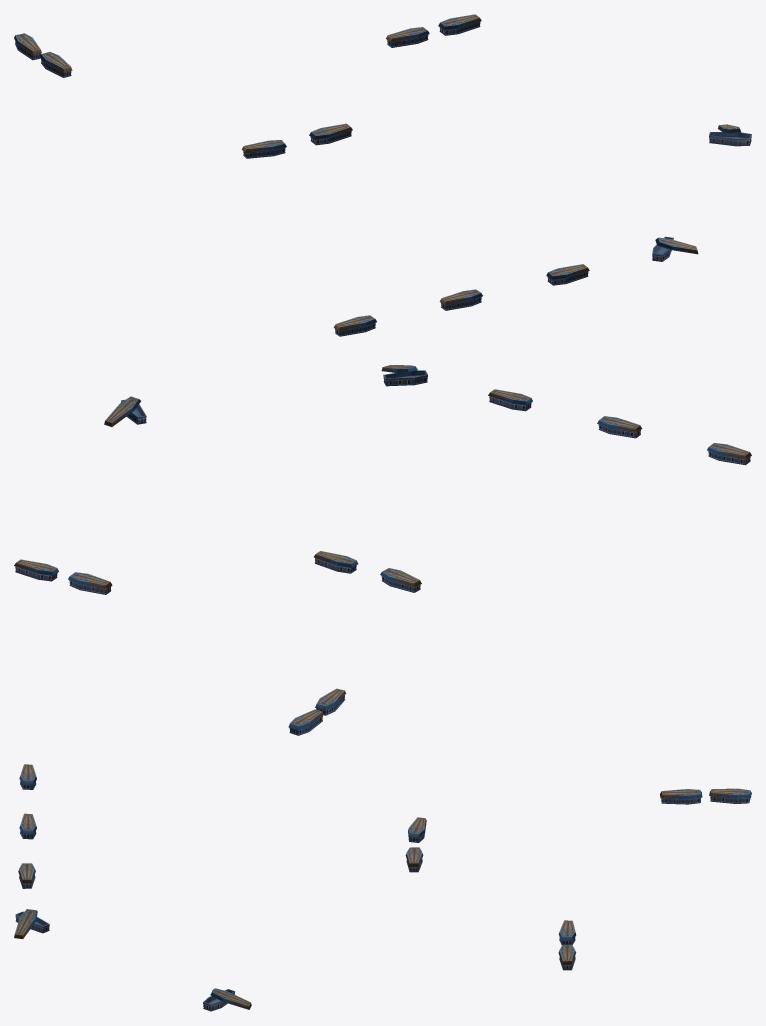
File: Area_07_4.FBX
3 views of the same model, one above another, from view 1: azimuth 30°, elevation 25°; view 2: azimuth 150°, elevation 25°; view 3: azimuth 270°, elevation 25° (orthographic). The views are drawn at different scales.
Visible parts, largest first — view 1: Area_07_4; view 2: Area_07_4; view 3: Area_07_4.
Part boxes in pixels (x1,y1,x2,y2): Area_07_4: [14, 14, 751, 336]; Area_07_4: [14, 365, 751, 735]; Area_07_4: [14, 764, 751, 1011].
Bounding box in the file's own units: 5043 × 154 × 6601.
